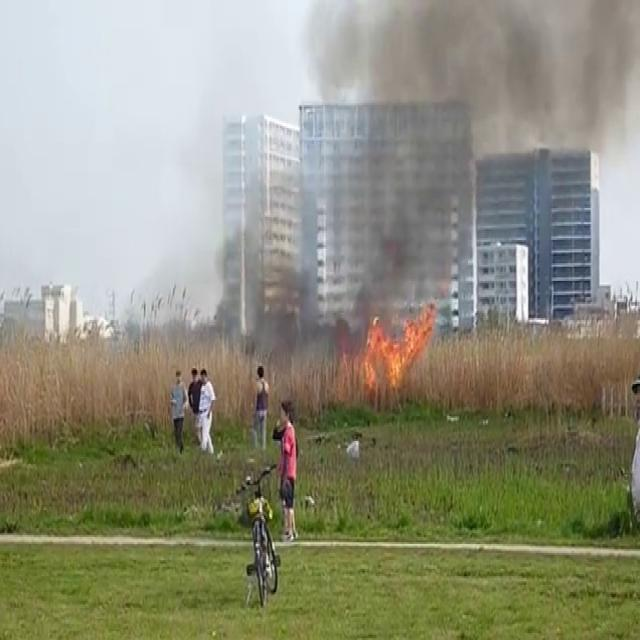Fire: (348, 301, 436, 398)
Smoke: (292, 0, 640, 332)
